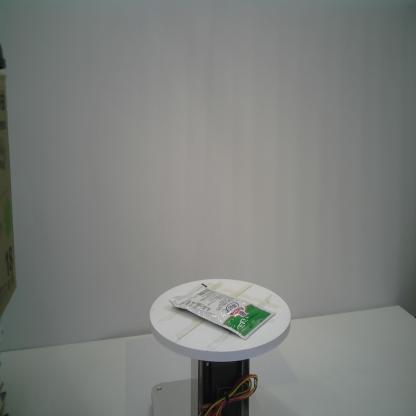Seasoner: (169, 281, 277, 341)
